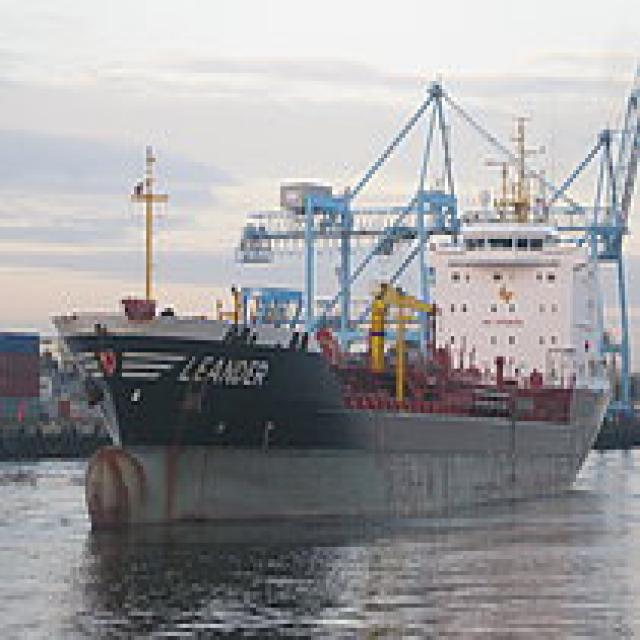Tanker: (46, 215, 606, 522)
